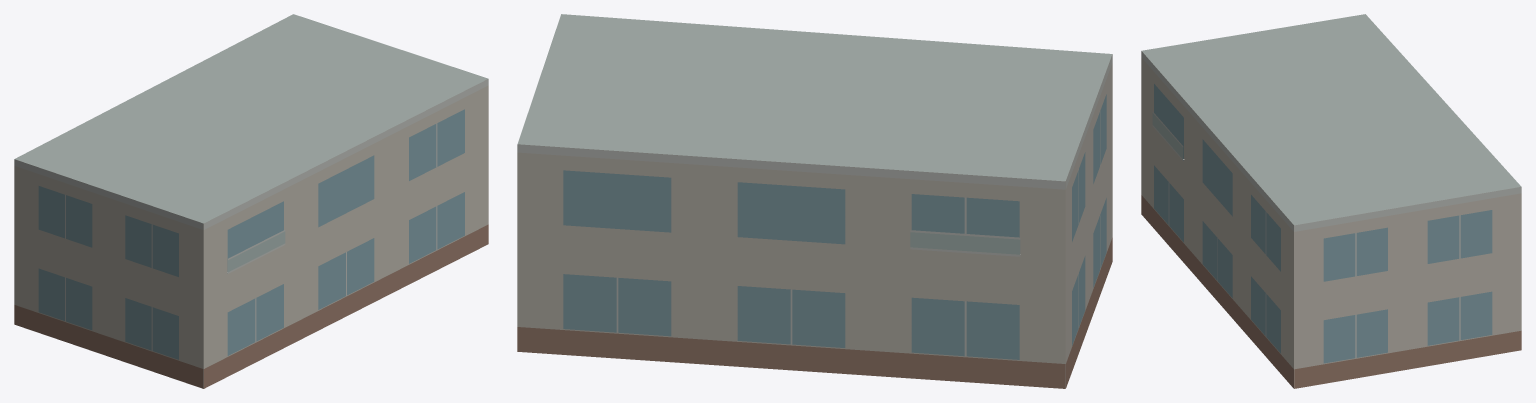
File: survey-upis-33038337.glb
3 renders of one model, left to right at view 1: azimuth 30°, elevation 25°; view 2: azimuth 150°, elevation 25°; view 3: azimuth 270°, elevation 25°, orthographic. The views are drawn at different scales.
Visible parts, largest first — view 1: survey-upis-33038337.tmp; view 2: survey-upis-33038337.tmp; view 3: survey-upis-33038337.tmp.
Part boxes in pixels (x1,y1,x2,y2): survey-upis-33038337.tmp: (14,14,488,388); survey-upis-33038337.tmp: (517,14,1112,388); survey-upis-33038337.tmp: (1141,14,1521,388).
Size of the model in its own units: 16.93 by 6.1 by 12.87.
